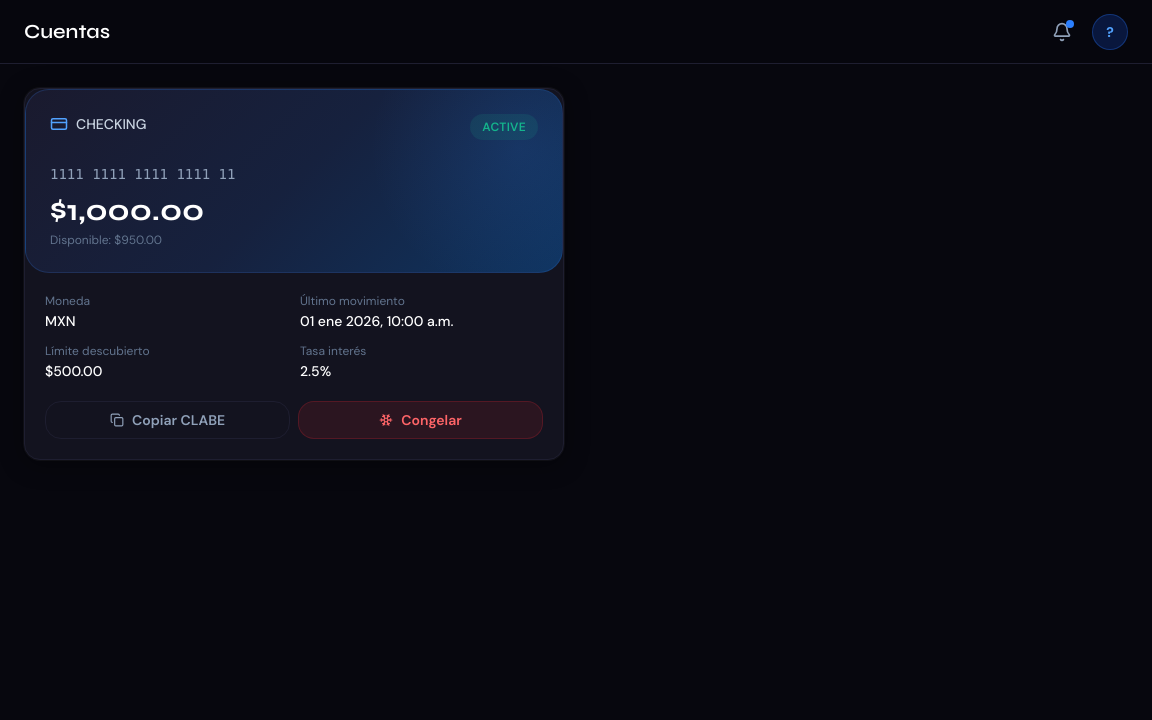
Scenario: AccountsPage › freezing an account: opens the modal, submits a reason, updates status and closes
This screenshot has width=1152, height=720.
Expected: the text "CHECKING" is shown, [76,114,146,134]
Click the button "Congelar". click: (420, 420)
box: [298,401,543,439]
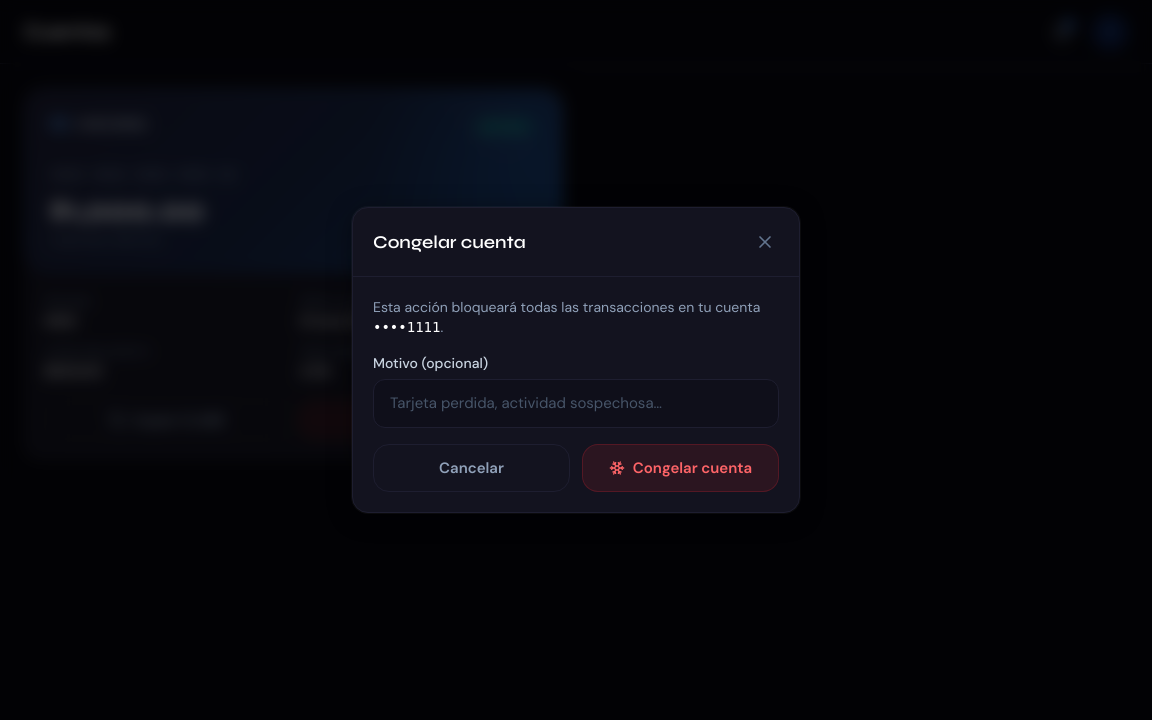
Now the heading "Congelar cuenta" is shown, box [373,228,526,256]
Now the text "••••1111" is shown, box [373,319,440,335]
Type "Tarjeta perdida" into the field with placeholder "Tarjeta perdida, actividad sospechosa…". click: (576, 403)
box: [373,379,779,428]
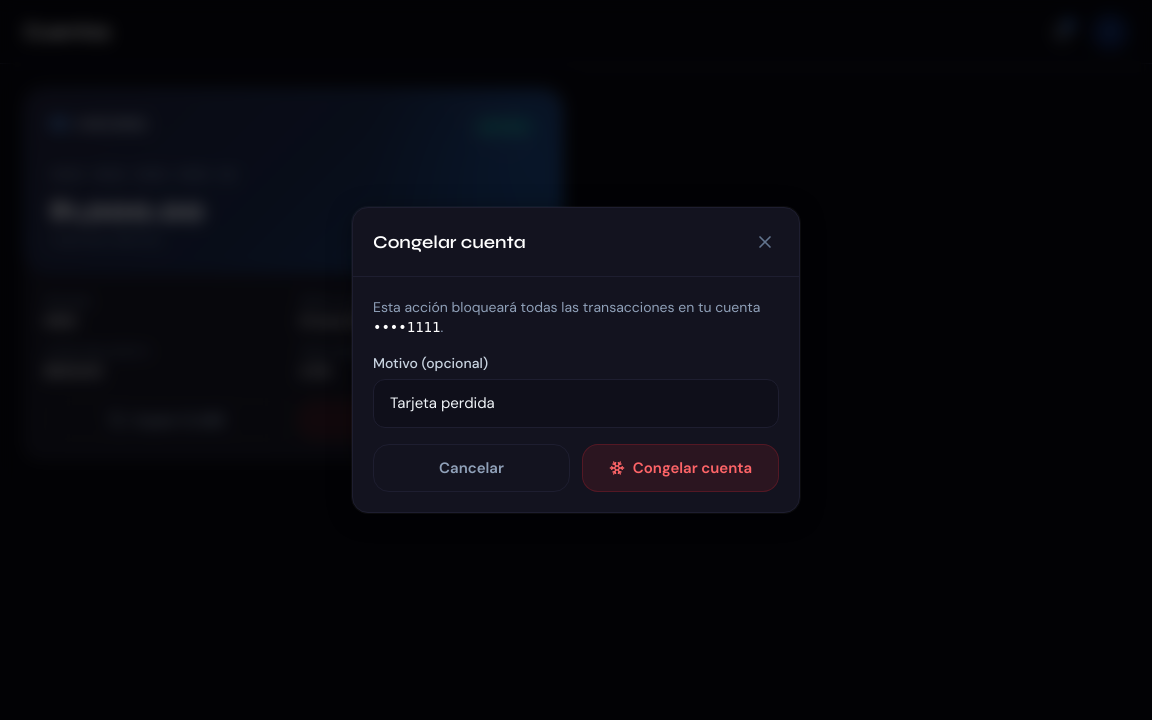
Click the button "Congelar cuenta". click: (680, 468)
box: [582,444,779,492]
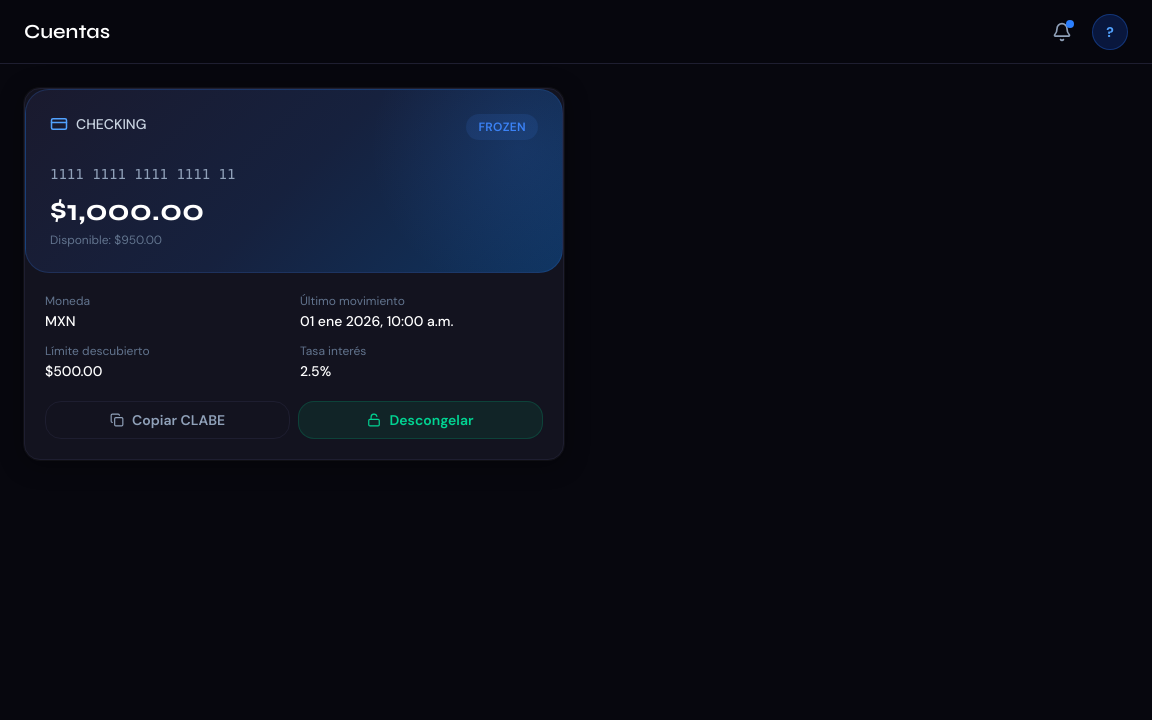
Now the text "FROZEN" is shown, box [466,114,538,140]
